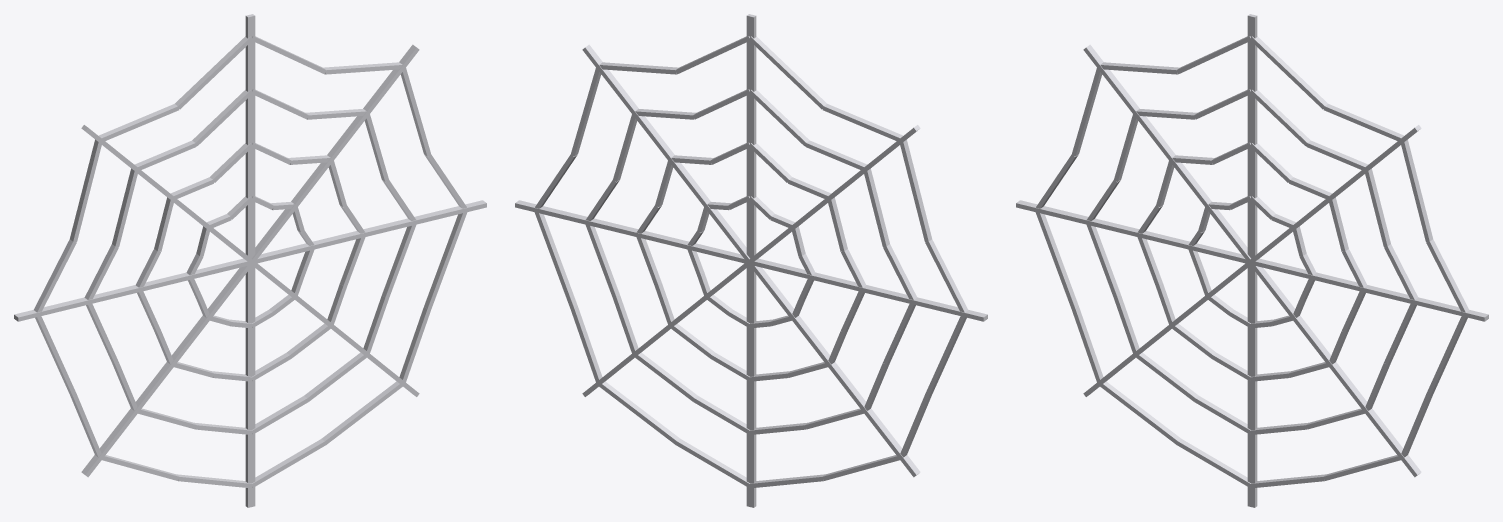
File: Web.fbx
3 renders of one model, left to right at view 1: azimuth 30°, elevation 25°; view 2: azimuth 150°, elevation 25°; view 3: azimuth 330°, elevation 25°, orthographic.
Visible parts, largest first — view 1: Frame; view 2: Frame; view 3: Frame.
Boxes of the visible parts, x1=… form: Frame: x1=14, y1=14, x2=486, y2=507; Frame: x1=515, y1=14, x2=987, y2=507; Frame: x1=1016, y1=14, x2=1488, y2=507.
Bounding box in the file's own units: 2.3 × 2.3 × 0.035.
1 material, 1 textured.
